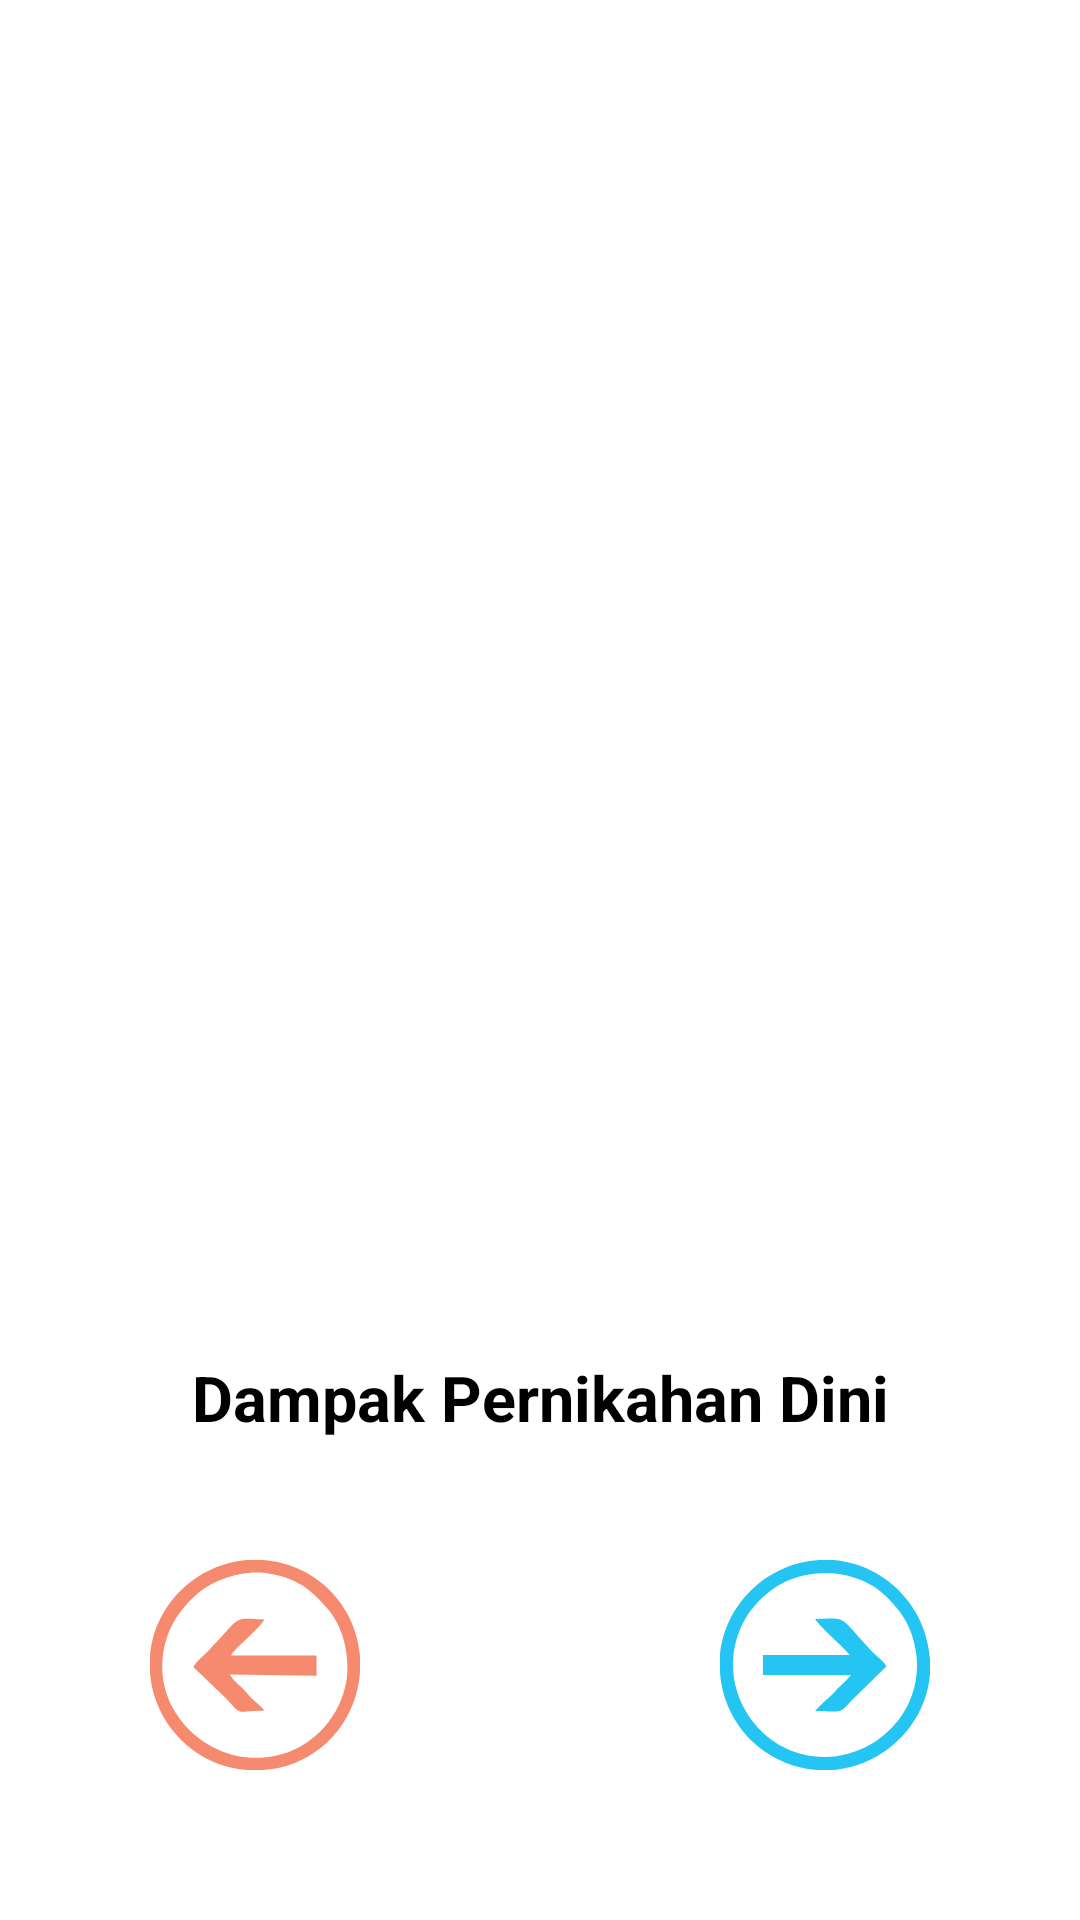

Named icons in this screenshot (1080px x 1920px) and their bounding boxes, (x1, y1, x2, y2):
next: (720, 1560, 930, 1770)
prev: (150, 1560, 360, 1770)
